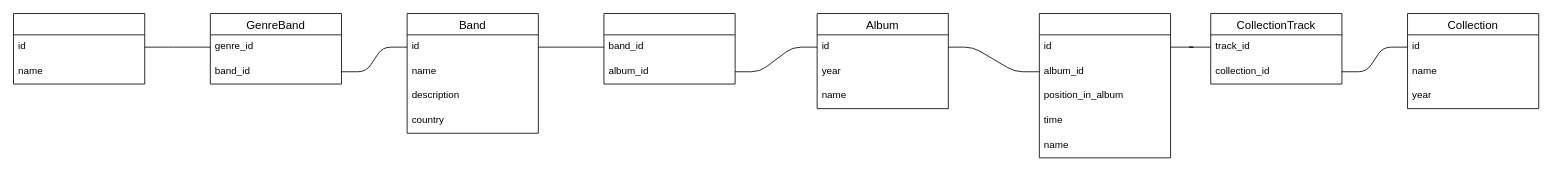
Some shapes in this 1552 by 171 pixel diagram are drawn without their labels. The box of each missing label's shape, as (x1, y1, x2, y2) in pixels:
BandAlbum: (603, 13, 735, 84)
Genre: (13, 13, 145, 84)
Track: (1039, 13, 1171, 158)
